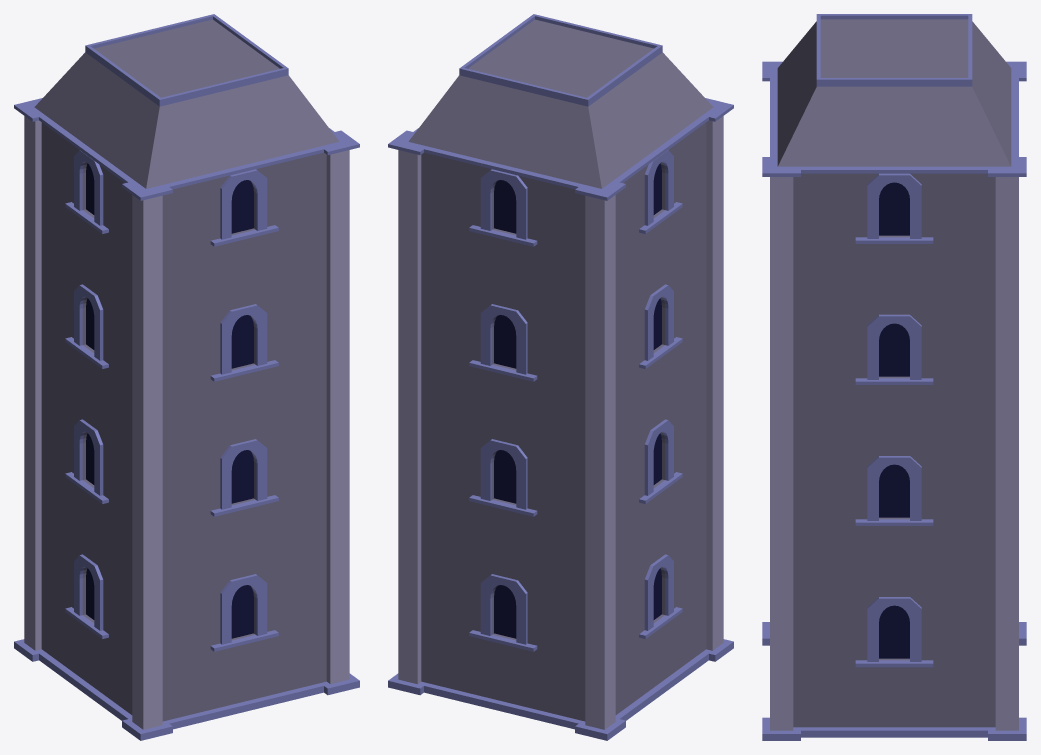
Rendered from House v4.003.fbx.
The picture shows the model from 3 angles, left to right: view 1: azimuth 30°, elevation 25°; view 2: azimuth 150°, elevation 25°; view 3: azimuth 270°, elevation 25°; orthographic projection. The views are drawn at different scales.
Visible parts, largest first — view 1: Building; view 2: Building; view 3: Building.
Boxes of the visible parts, left/top/right/bottom form: Building: left=14, top=14, right=359, bottom=740; Building: left=388, top=14, right=733, bottom=740; Building: left=762, top=14, right=1026, bottom=740.
Bounding box in the file's own units: 340 × 340 × 905.
